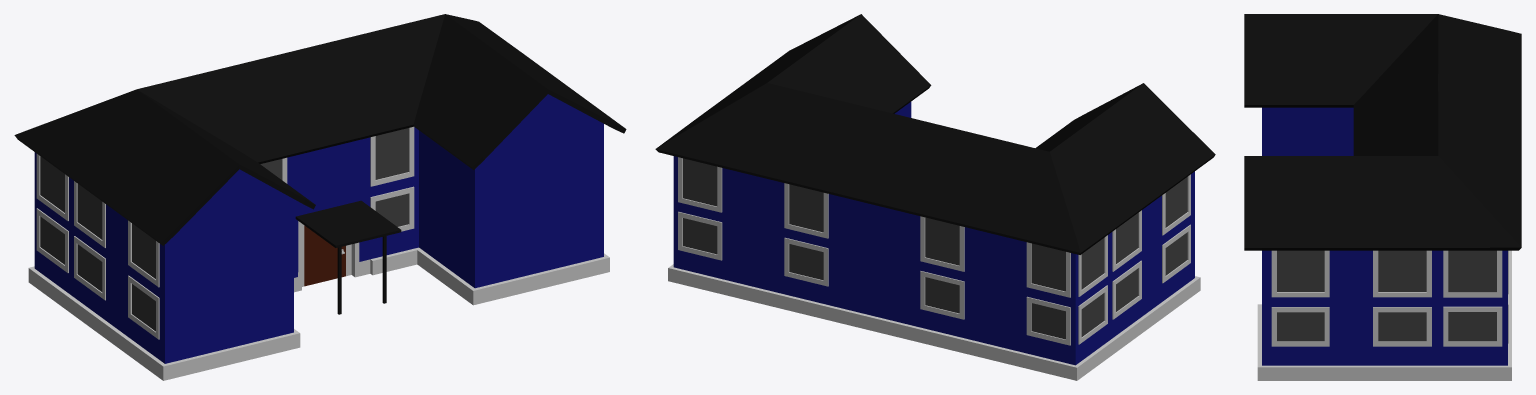
Rendered from house2_1.obj.
The picture shows the model from 3 angles, left to right: view 1: azimuth 30°, elevation 25°; view 2: azimuth 150°, elevation 25°; view 3: azimuth 270°, elevation 25°; orthographic projection. The views are drawn at different scales.
Parts seen in each view (by area): view 1: Plane.001; view 2: Plane.001; view 3: Plane.001.
Part boxes in pixels (<box>): Plane.001: <box>14,14,626,380</box>; Plane.001: <box>655,14,1215,380</box>; Plane.001: <box>1244,14,1521,380</box>.
Bounding box in the file's own units: 14.43 × 6.07 × 7.89.
